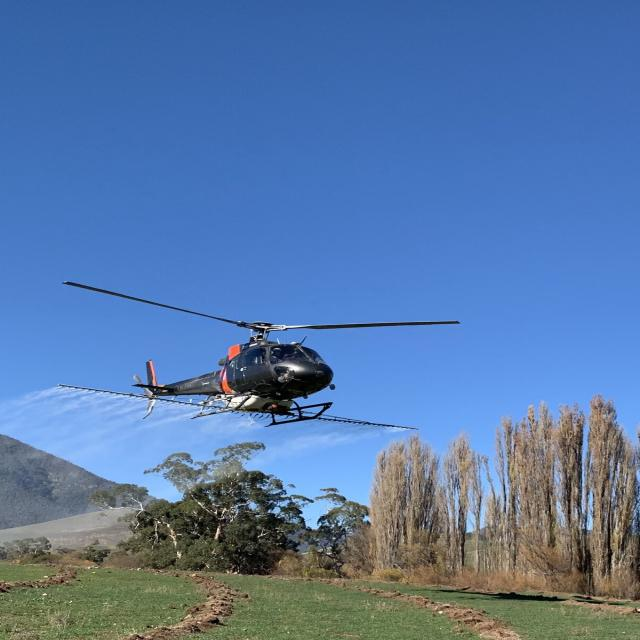helicopter: (74, 255, 489, 443)
